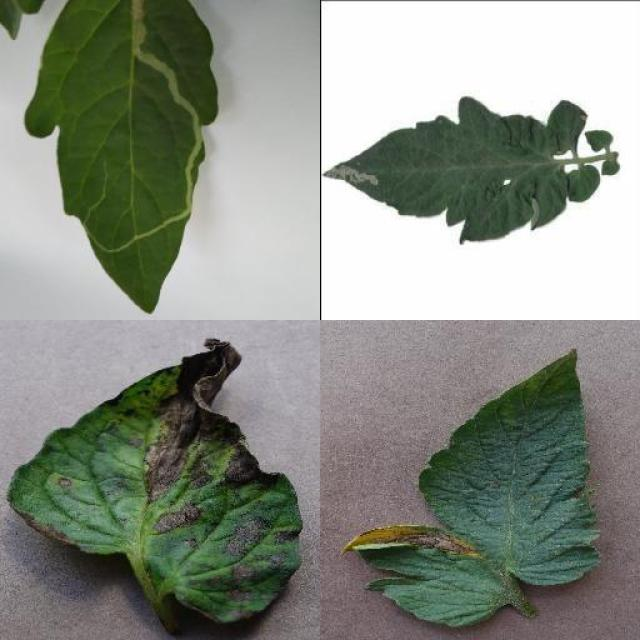Early Blight: (12, 339, 306, 626), (338, 350, 606, 628)
